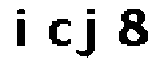8: (113, 6, 150, 51)
c: (43, 17, 73, 48)
i: (3, 4, 33, 53)
j: (73, 7, 102, 60)
